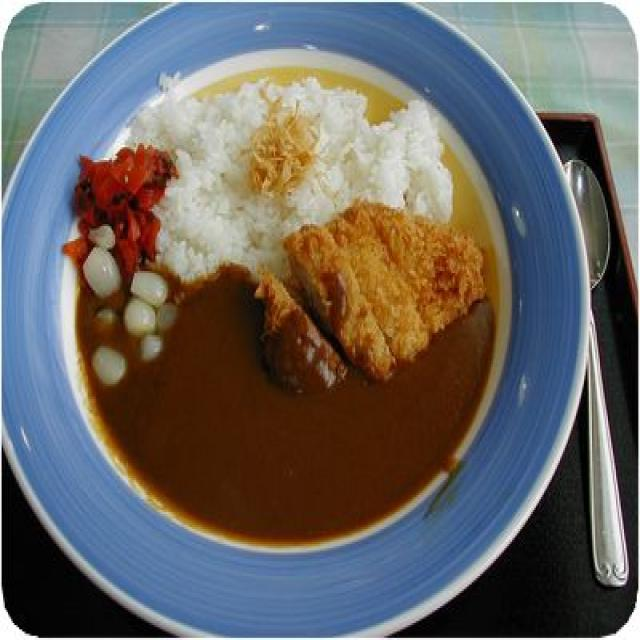猪肉菜式: (16, 27, 622, 618)
